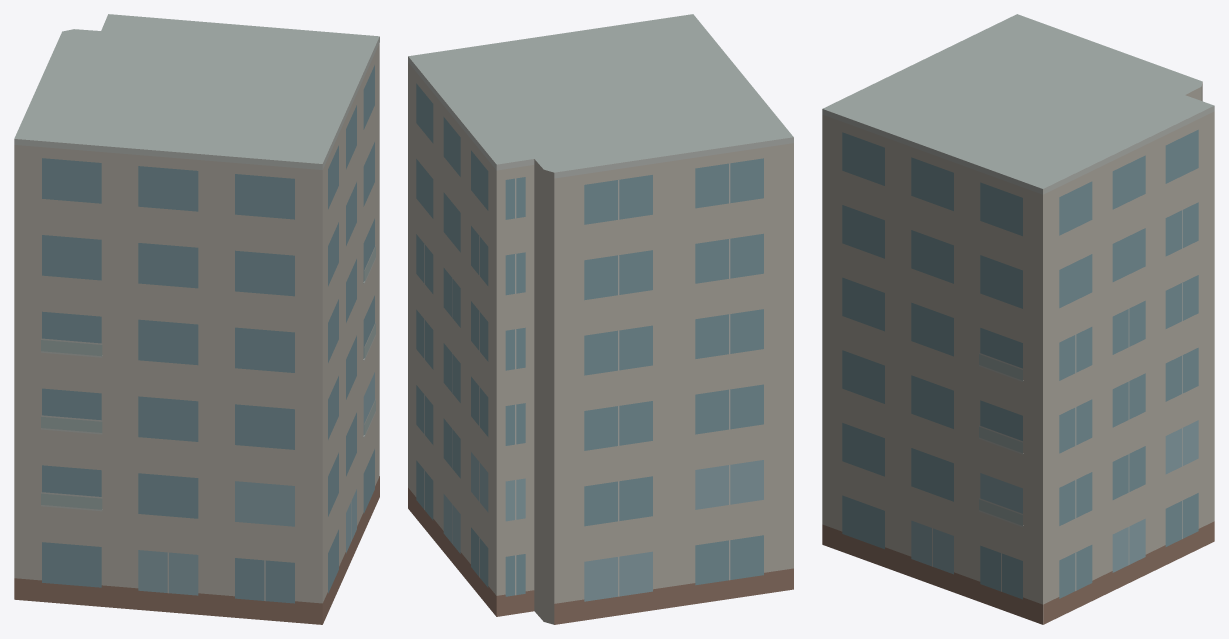
The model's file is survey-upis-32709844.glb.
3 renders of one model, left to right at view 1: azimuth 30°, elevation 25°; view 2: azimuth 150°, elevation 25°; view 3: azimuth 270°, elevation 25°, orthographic. The views are drawn at different scales.
Parts seen in each view (by area): view 1: survey-upis-32709844.tmp; view 2: survey-upis-32709844.tmp; view 3: survey-upis-32709844.tmp.
Boxes of the visible parts, x1,y1,x2,y2 form: survey-upis-32709844.tmp: (14, 14, 379, 624); survey-upis-32709844.tmp: (408, 14, 793, 624); survey-upis-32709844.tmp: (822, 14, 1214, 624).
Bounding box in the file's own units: 16.12 × 18.7 × 15.26.
